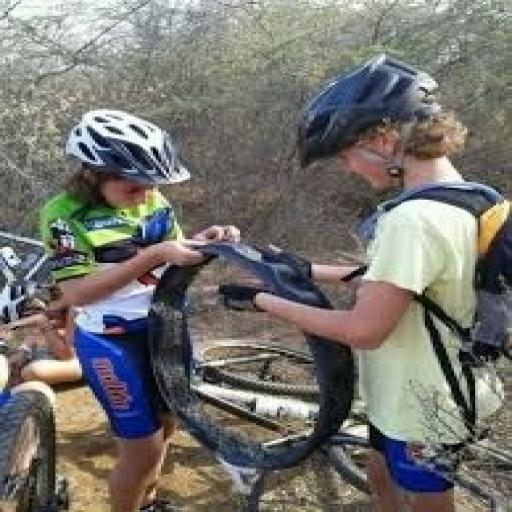cycling: (232, 51, 510, 510), (34, 107, 243, 510)
